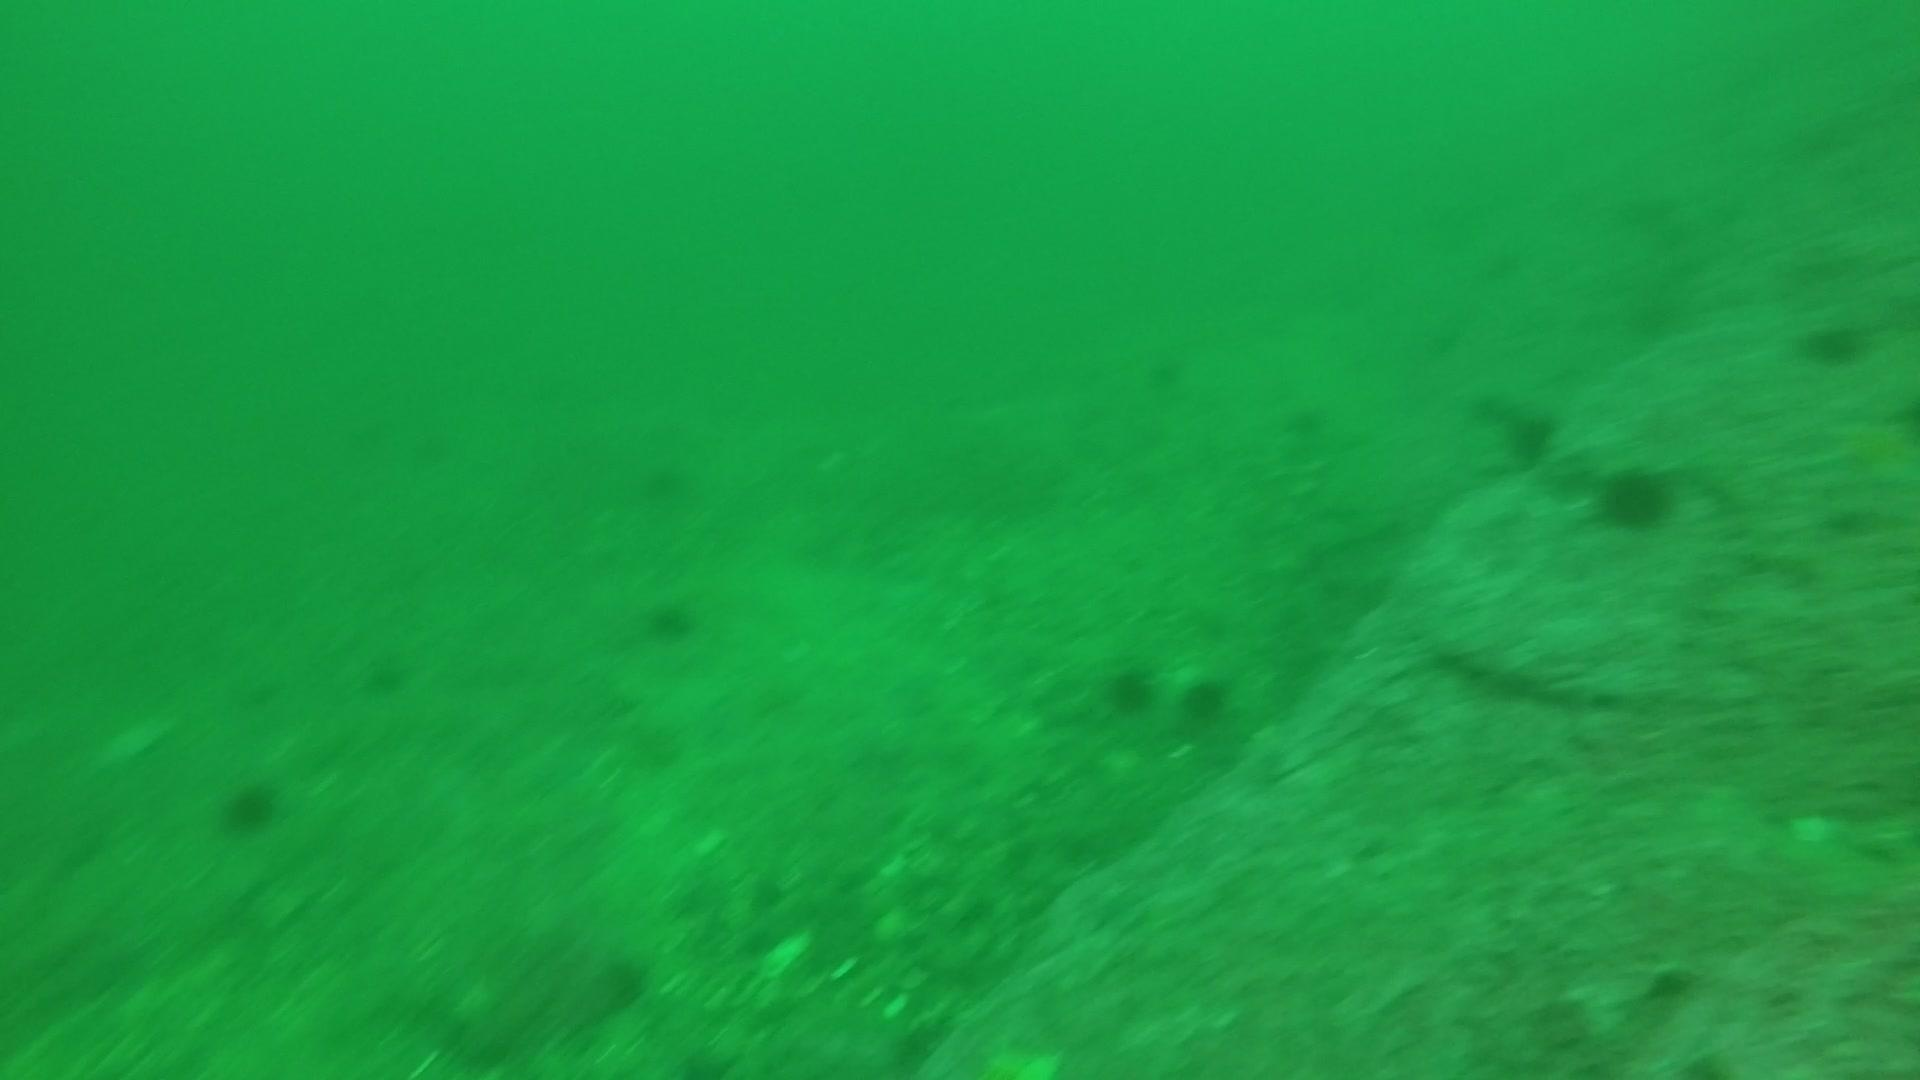echinus: (1592, 460, 1679, 534), (1796, 313, 1873, 371), (215, 774, 285, 837), (1098, 669, 1162, 728), (1133, 336, 1196, 396), (1175, 670, 1237, 729), (640, 592, 702, 646), (1505, 411, 1563, 465), (1282, 393, 1336, 442), (357, 659, 415, 704), (640, 460, 698, 505), (1473, 388, 1520, 433)
